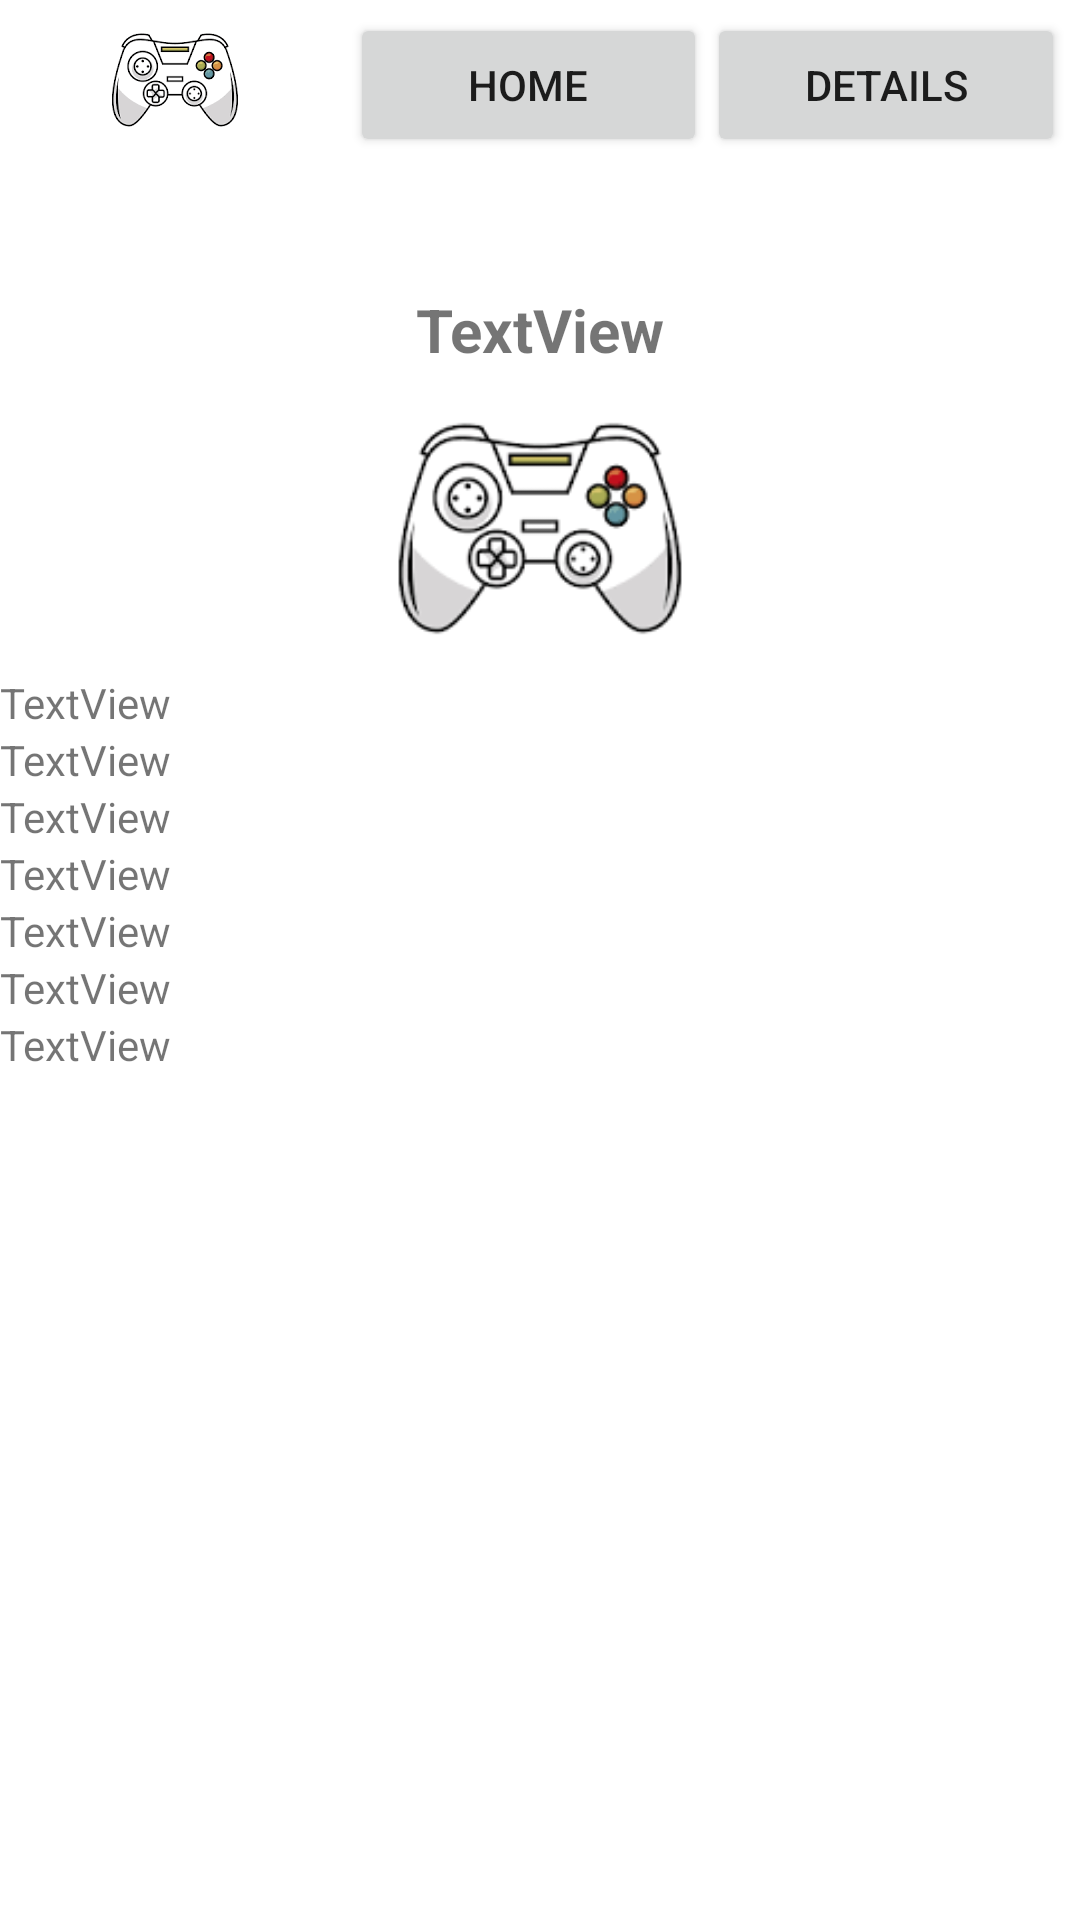

Screen size 1080 x 1920. Icon name, then its box in pixels as (x1, y1, x2, y2):
game picture: (112, 33, 238, 127), (398, 423, 682, 634)
